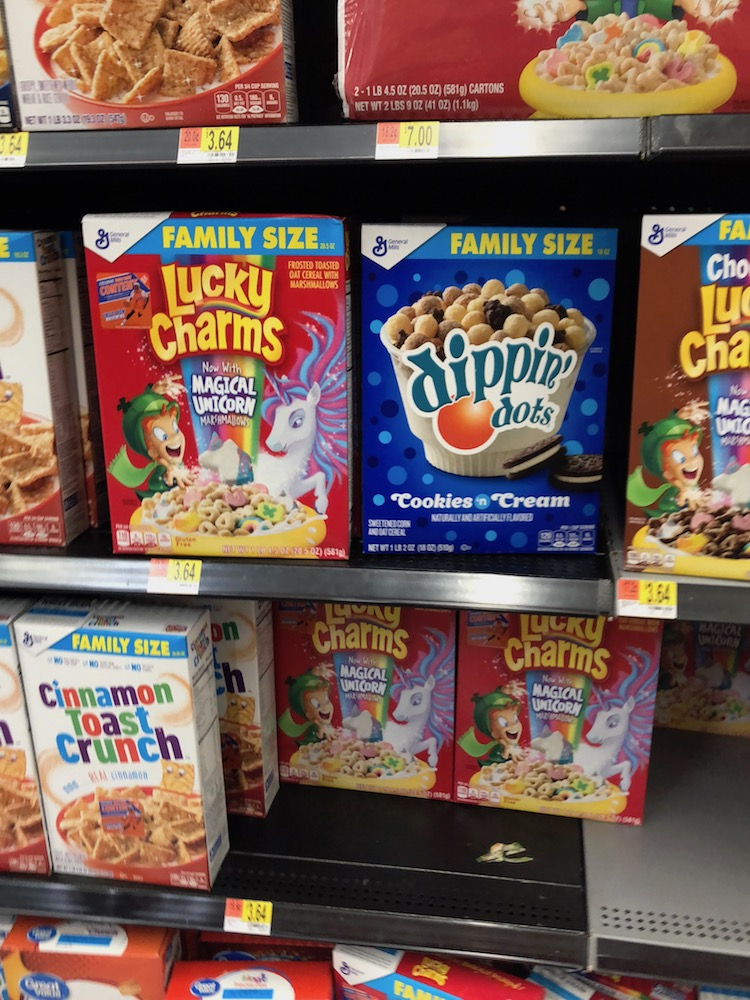Dippin Dots Cookies & Cream -568929378: (343, 240, 619, 563)
